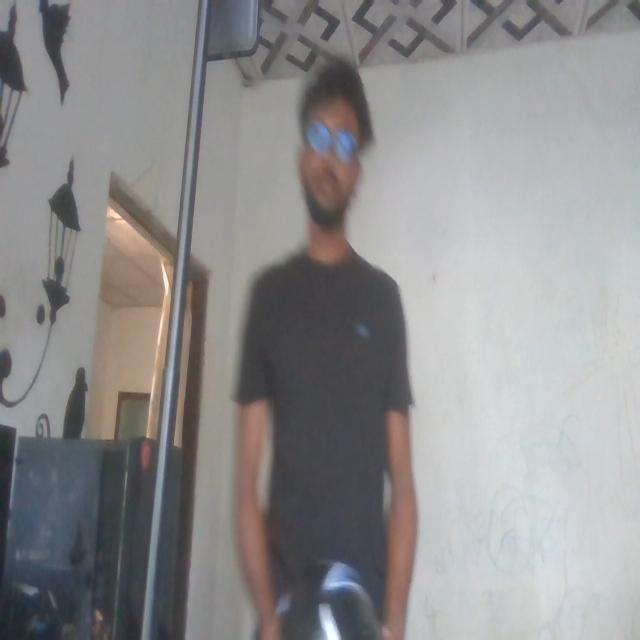Person: (221, 11, 415, 640)
